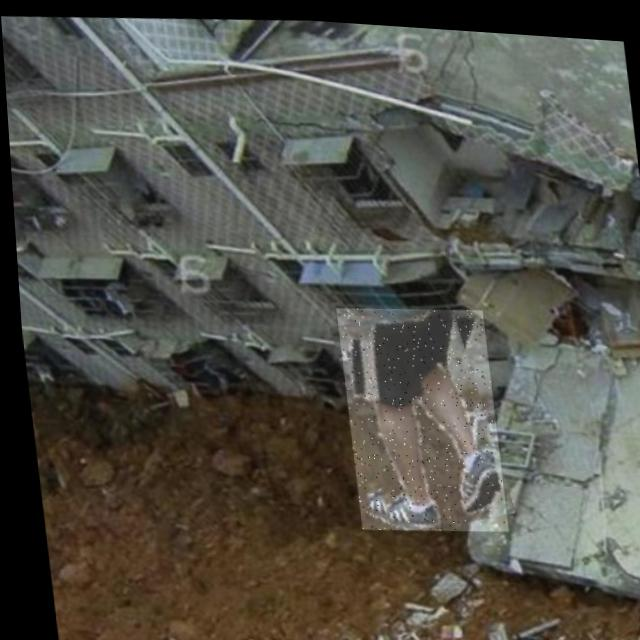Person in Rubble: (332, 296, 502, 532)
